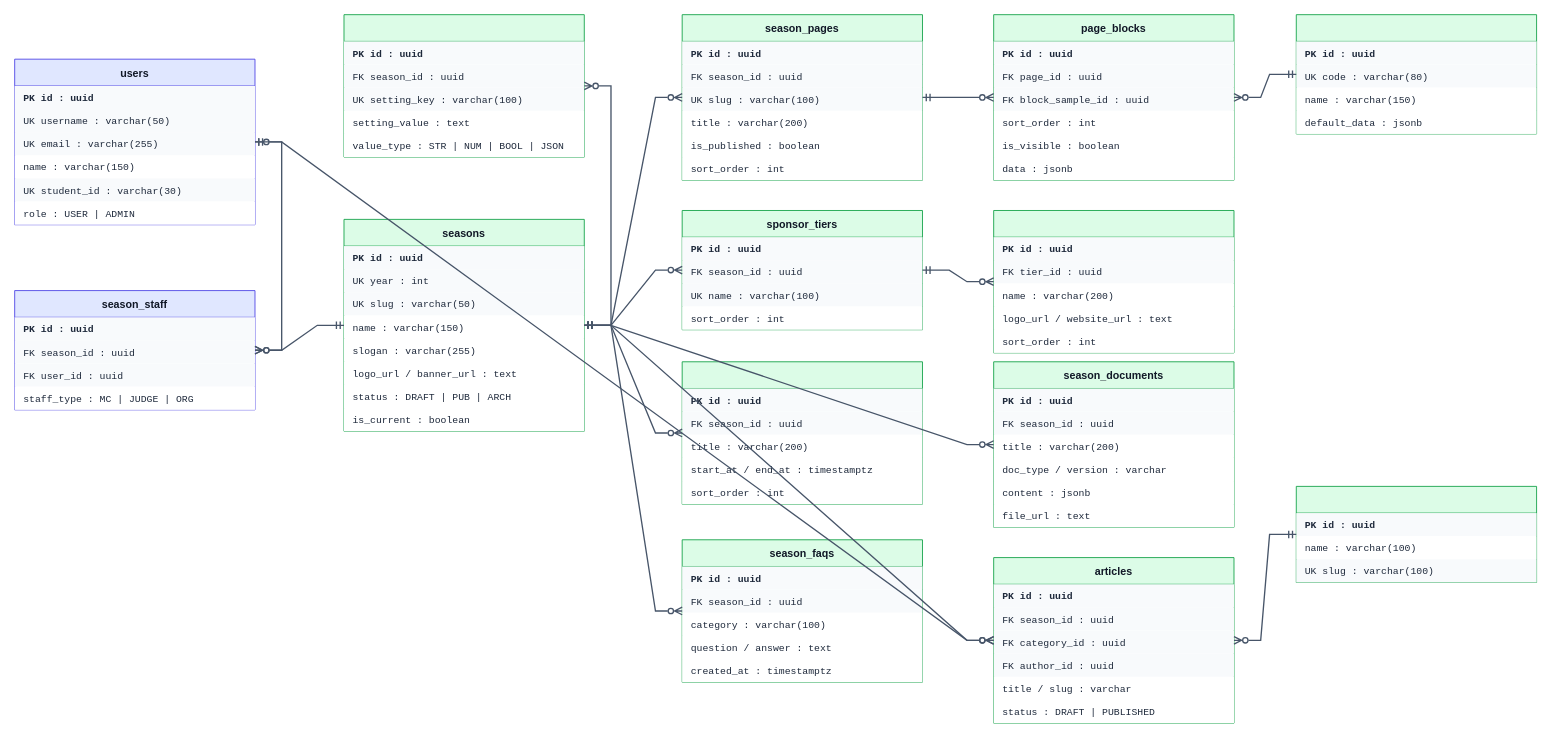
This 1551x738 diagram has some shape labels left out. Here are the shapes that lost their labels. From the top down, the box of each, then its label:
(343, 14, 584, 157): season_settings
(1295, 14, 1537, 134): block_samples
(993, 210, 1234, 353): season_sponsors
(681, 361, 922, 504): season_milestones
(1295, 485, 1537, 583): article_categories
